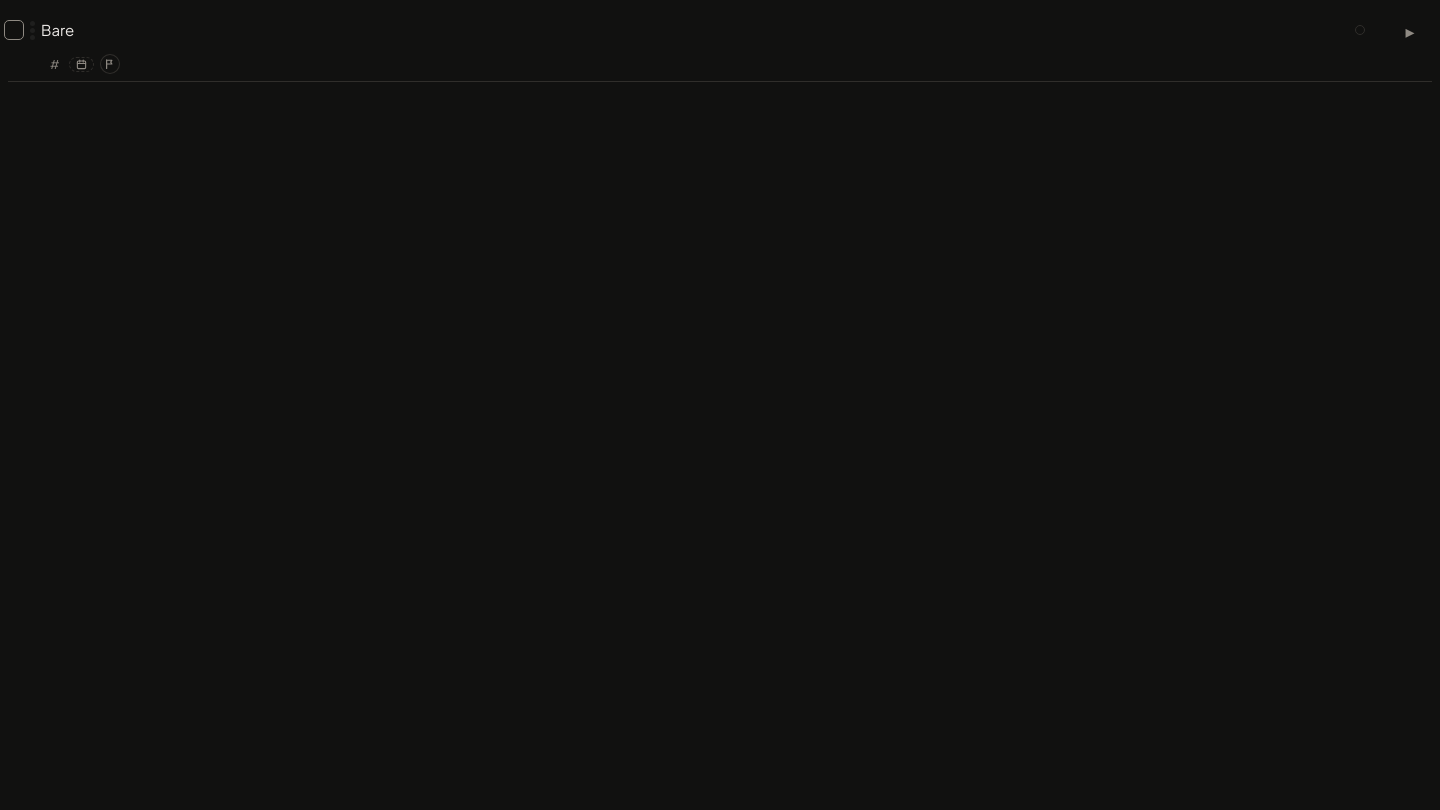
Test case: MobileTaskRow › touch follow-up flag › an empty follow-up slot always shows its flag, which opens the follow-up popover
What coordinates should you click on to do the following:
click the button named "Set follow-up"
I would click on:
 (110, 64)
Its box is [100,54,120,74].
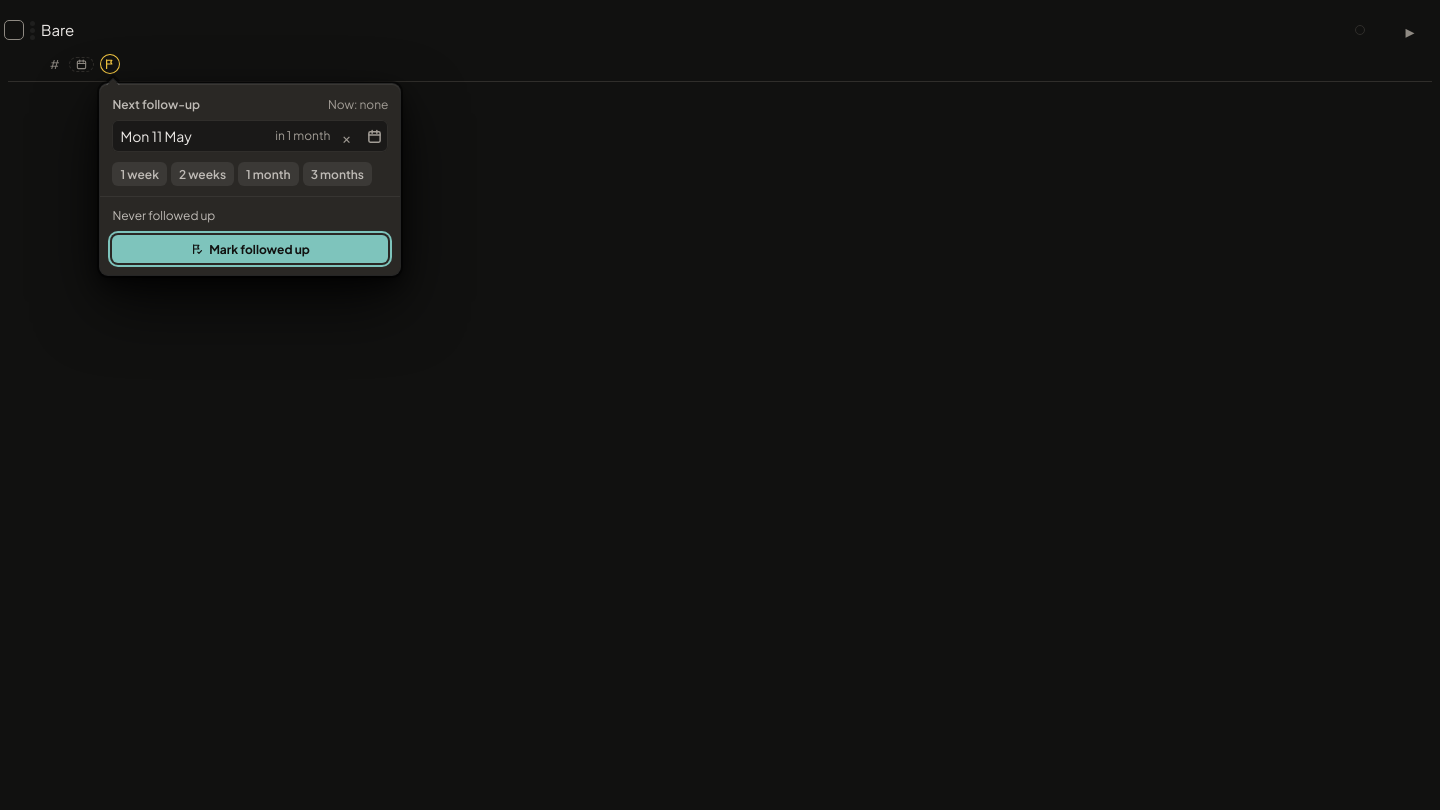
Expected: the dialog "follow-up" is shown, [100,84,400,275]
Expected: the button named "Set follow-up" is expanded, [100,54,120,74]
